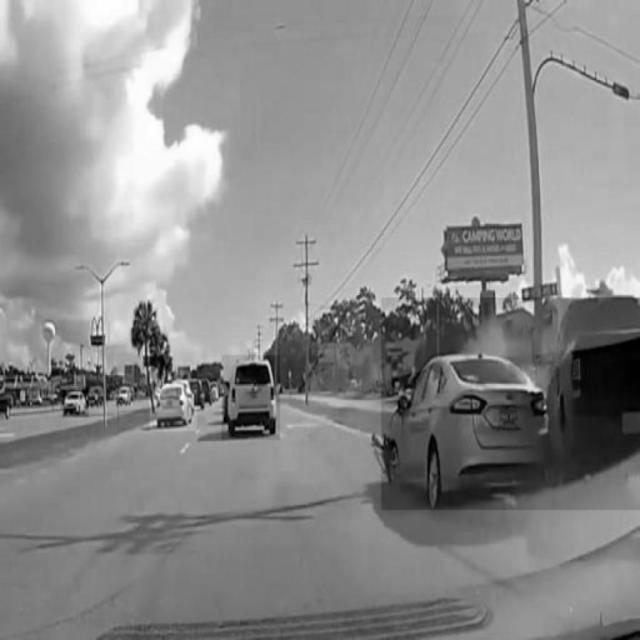accident: (382, 298, 640, 510)
vehicle: (221, 356, 279, 440), (149, 380, 197, 432), (63, 390, 89, 418)
